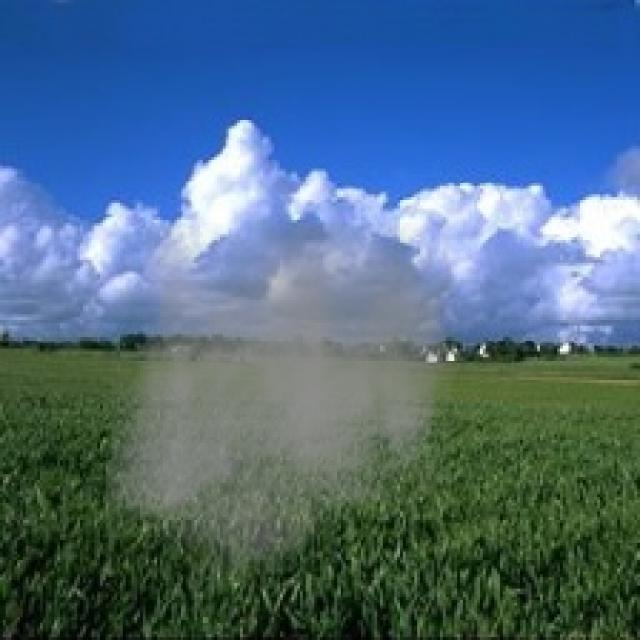smoke: (106, 223, 457, 588)
